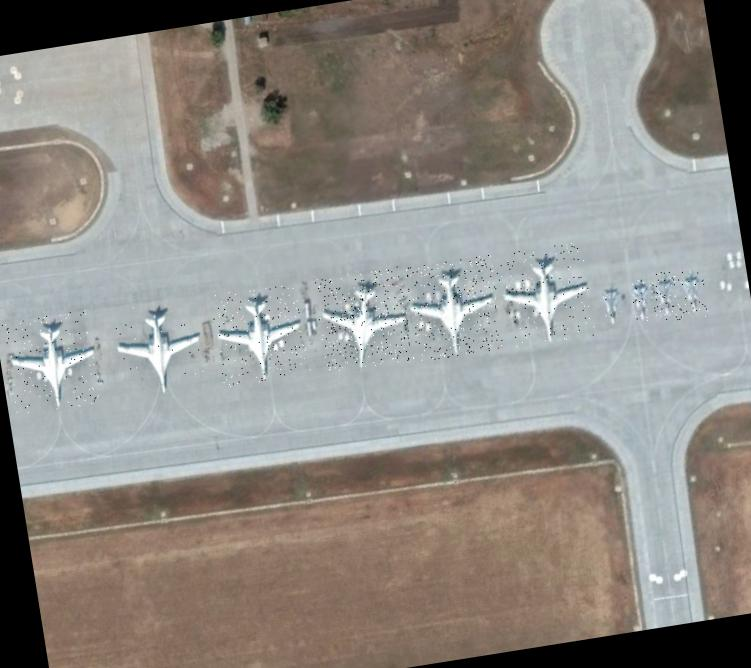A20: (647, 270, 682, 324), (676, 267, 708, 320), (596, 283, 622, 327), (628, 276, 650, 322)
A6: (106, 295, 209, 403), (312, 266, 414, 374), (403, 254, 505, 362), (493, 241, 595, 348), (0, 308, 101, 416), (209, 280, 310, 388)
